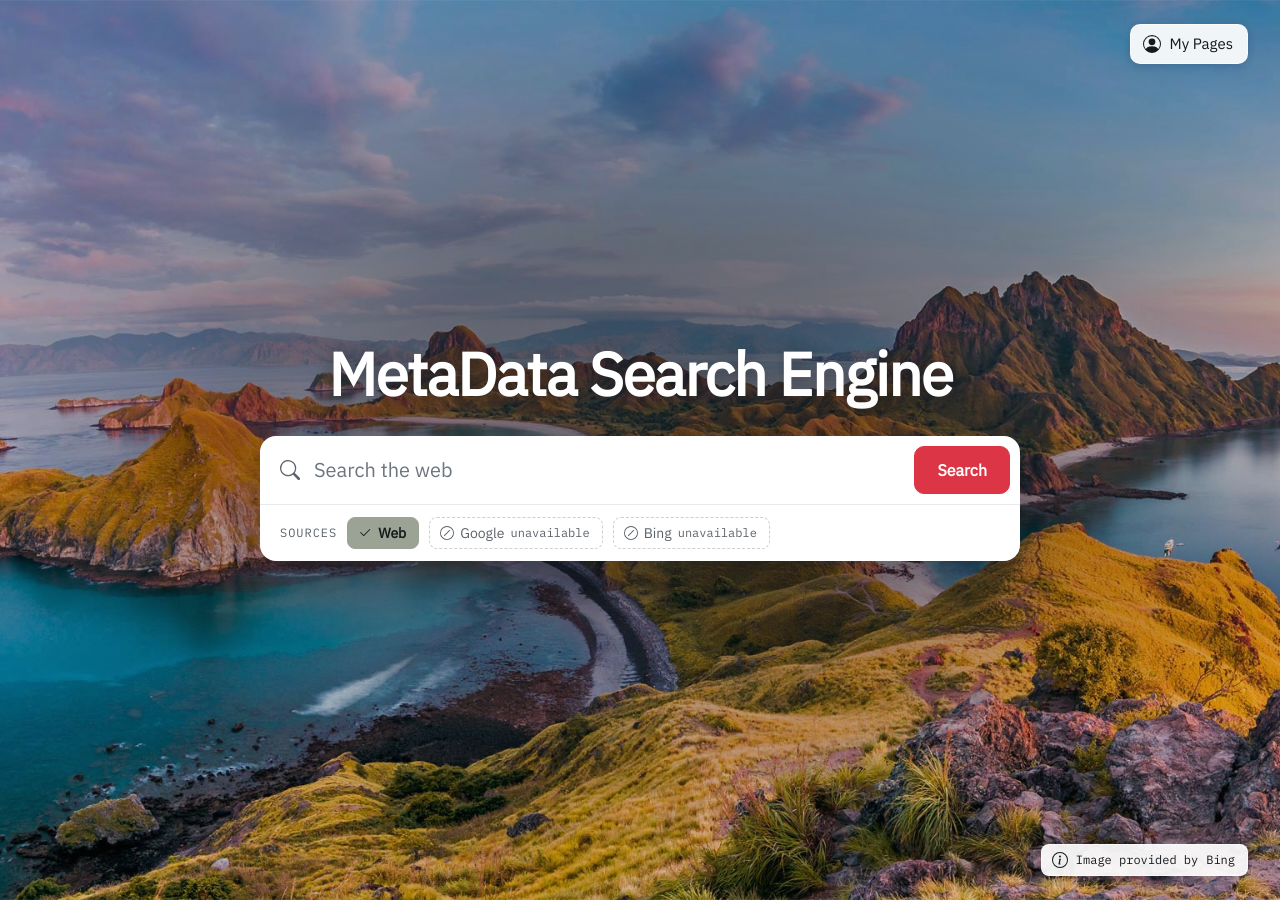
Test: clear button › appears once something is typed and empties the search box and the saved query
This screenshot has width=1280, height=900.
Type "burgers" into the field.
click(607, 470); type("burgers")  # box [314, 446, 900, 494]
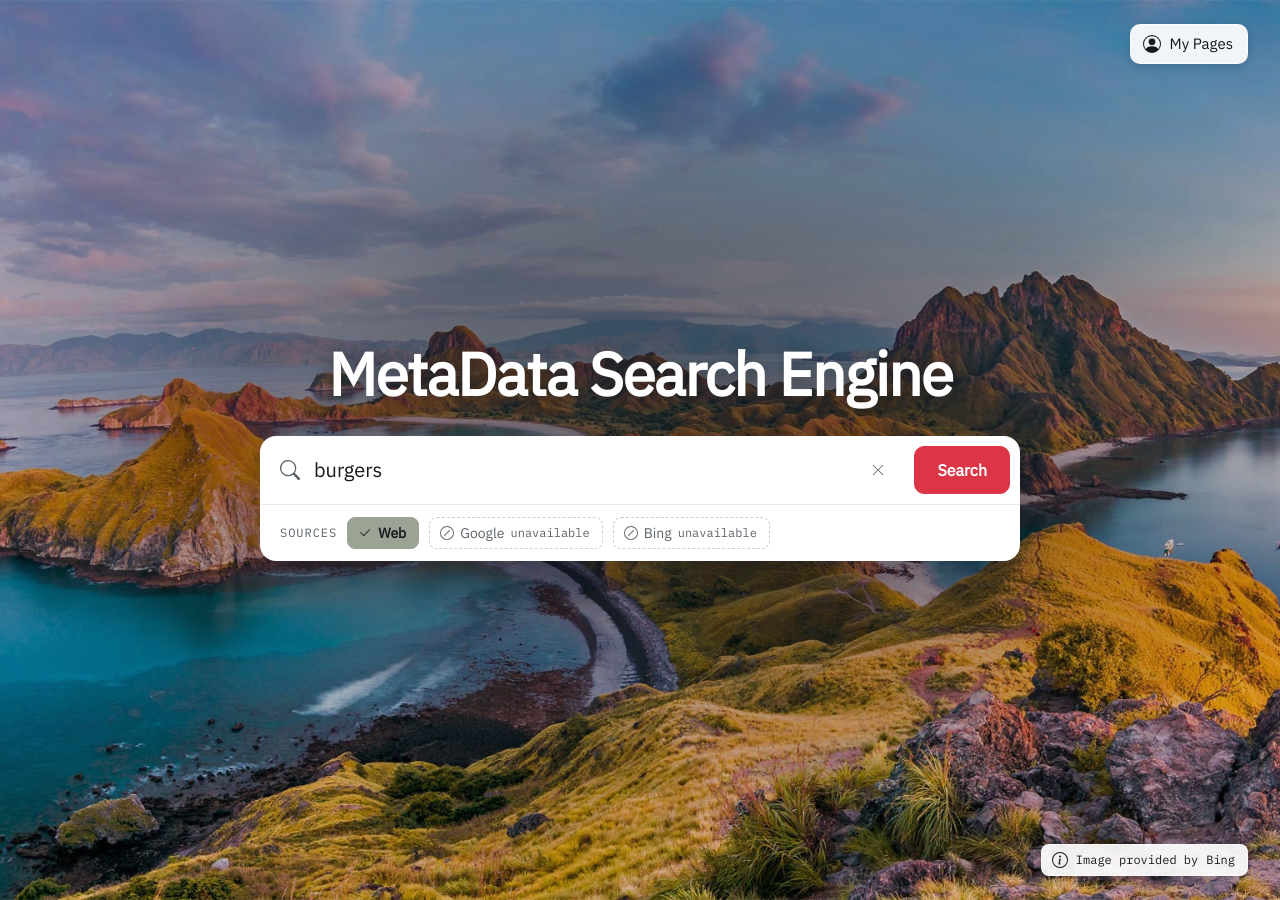
expect the button named "Clear the search box" is shown: met
Click the button named "Clear the search box".
click(878, 470)  # box [864, 456, 892, 484]
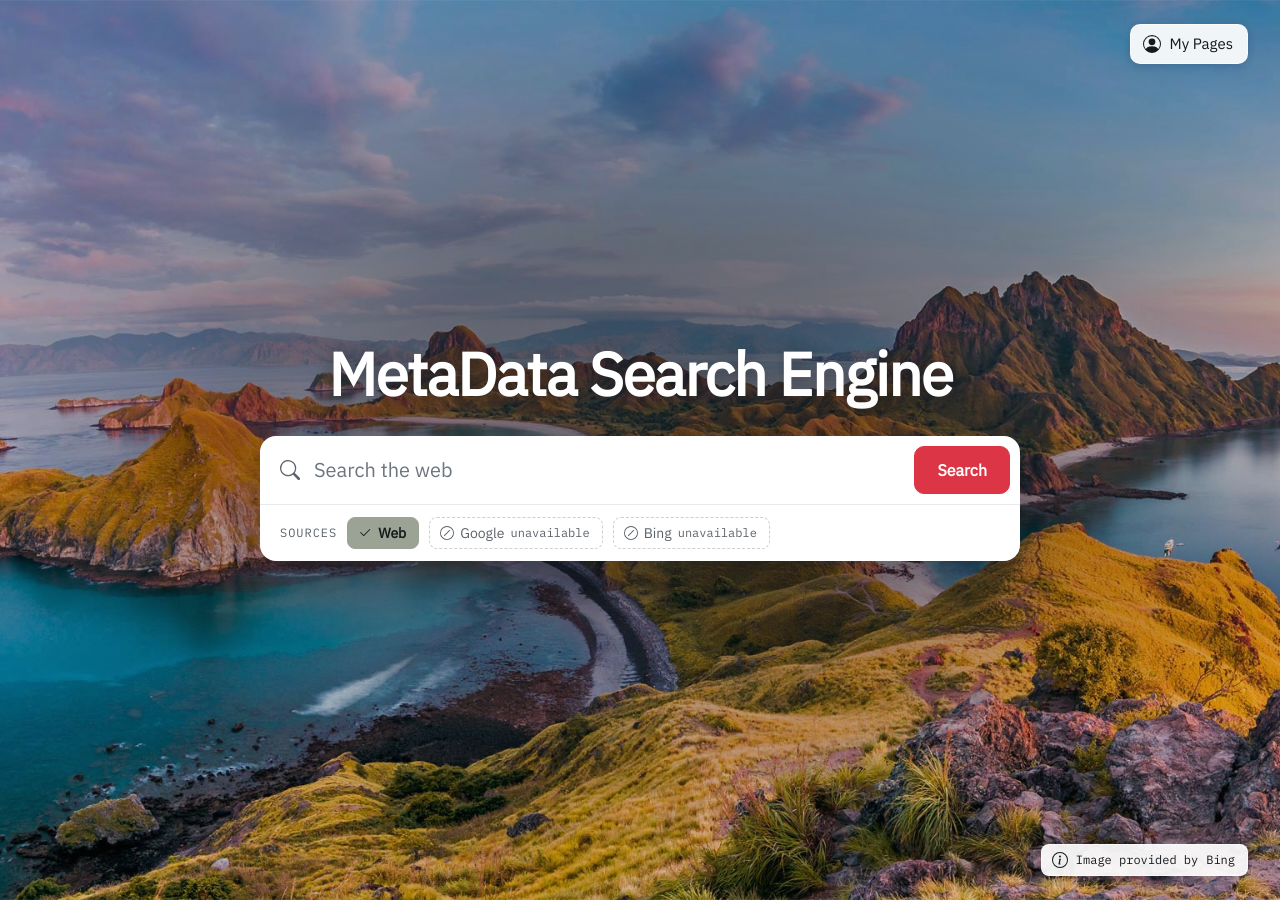
expect the field is empty: met, box [314, 446, 900, 494]
